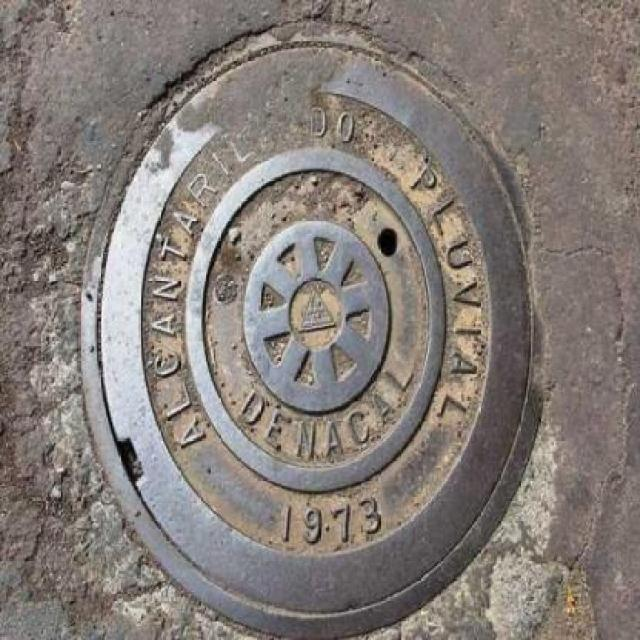Manhole: (69, 15, 586, 634)
